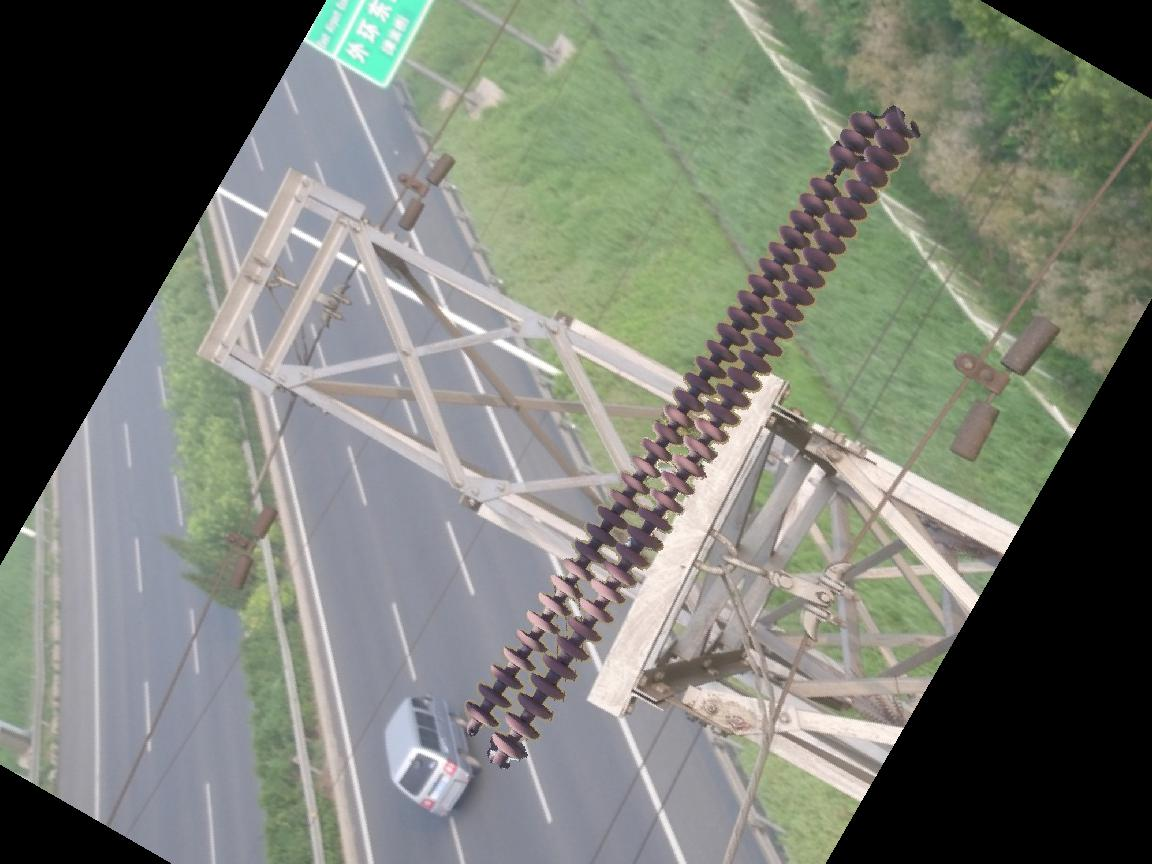insulator: (458, 102, 923, 769)
insulator_stringdrop: (806, 141, 862, 204)
